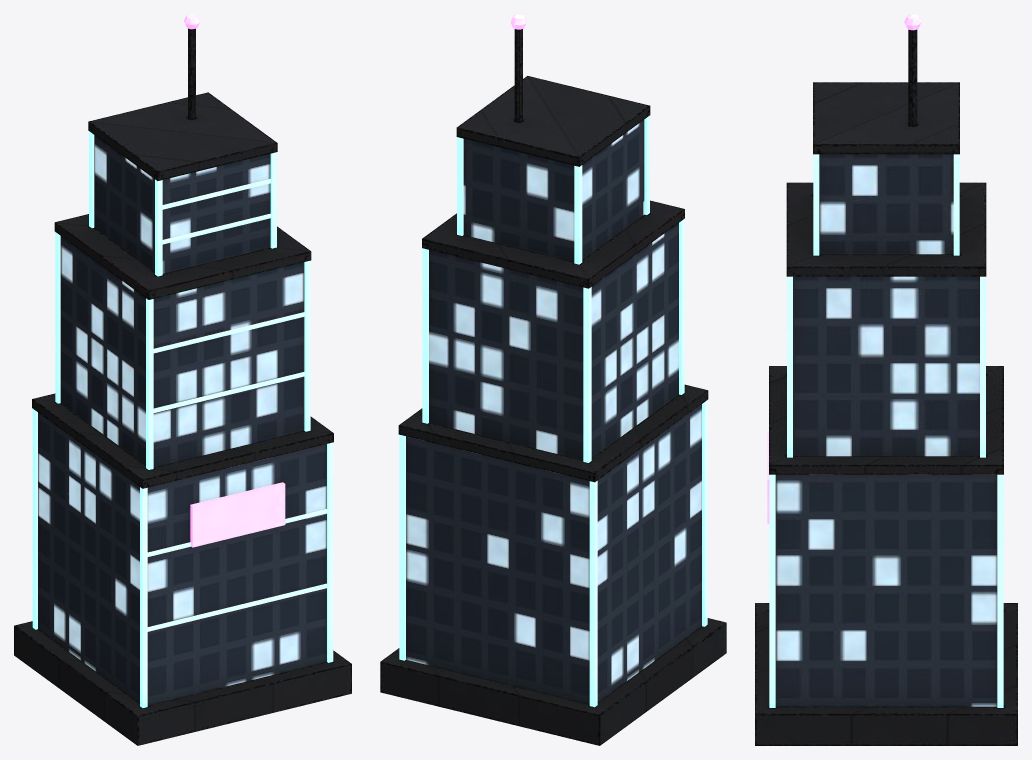
The model's file is torre_neon.glb.
The picture shows the model from 3 angles, left to right: view 1: azimuth 30°, elevation 25°; view 2: azimuth 150°, elevation 25°; view 3: azimuth 270°, elevation 25°; orthographic projection. The views are drawn at different scales.
Parts seen in each view (by area): view 1: torre_neon; view 2: torre_neon; view 3: torre_neon.
Boxes of the visible parts, <box> form: torre_neon: <box>14,14,351,745</box>; torre_neon: <box>380,14,726,745</box>; torre_neon: <box>755,14,1017,745</box>.
Bounding box in the file's own units: 3 × 8.65 × 3.
1 material, 1 textured.
